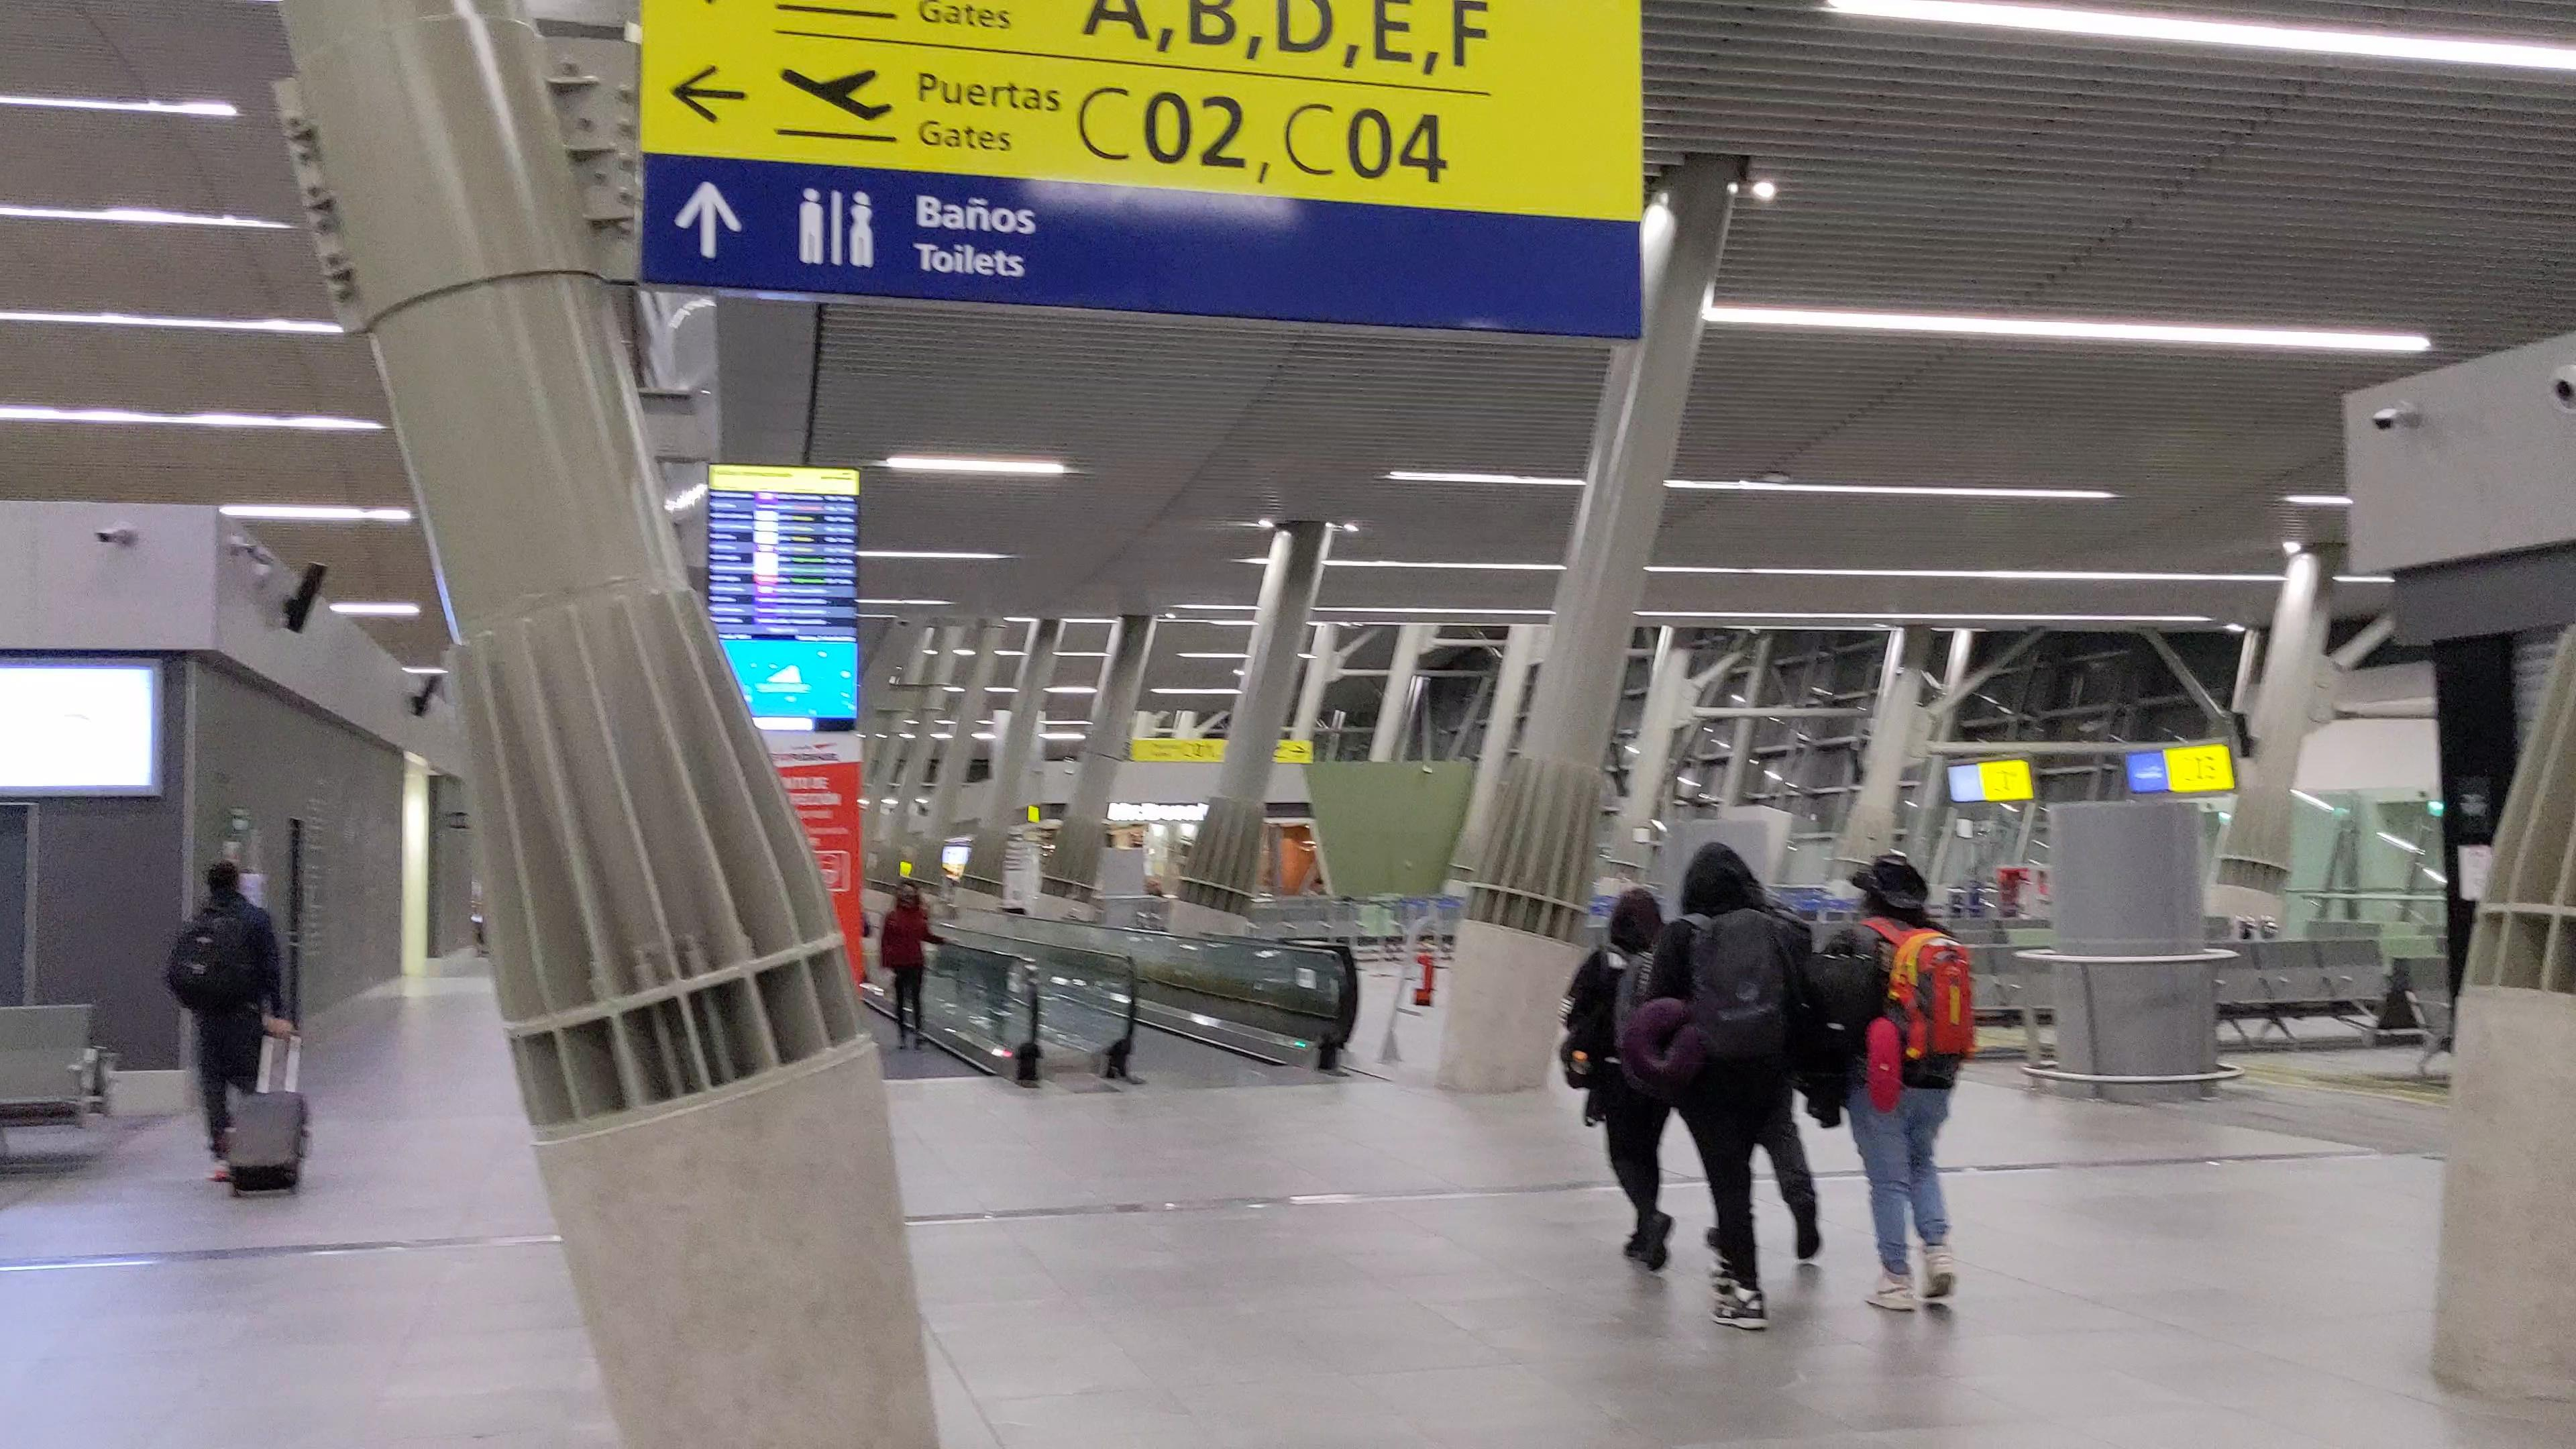airplane symbol: (778, 58, 897, 124)
bathrooms: (794, 184, 879, 272)
fire-extinguisher: (1410, 941, 1438, 1008)
thin left arrow: (667, 60, 755, 126)
thin up arrow: (671, 177, 745, 260)
